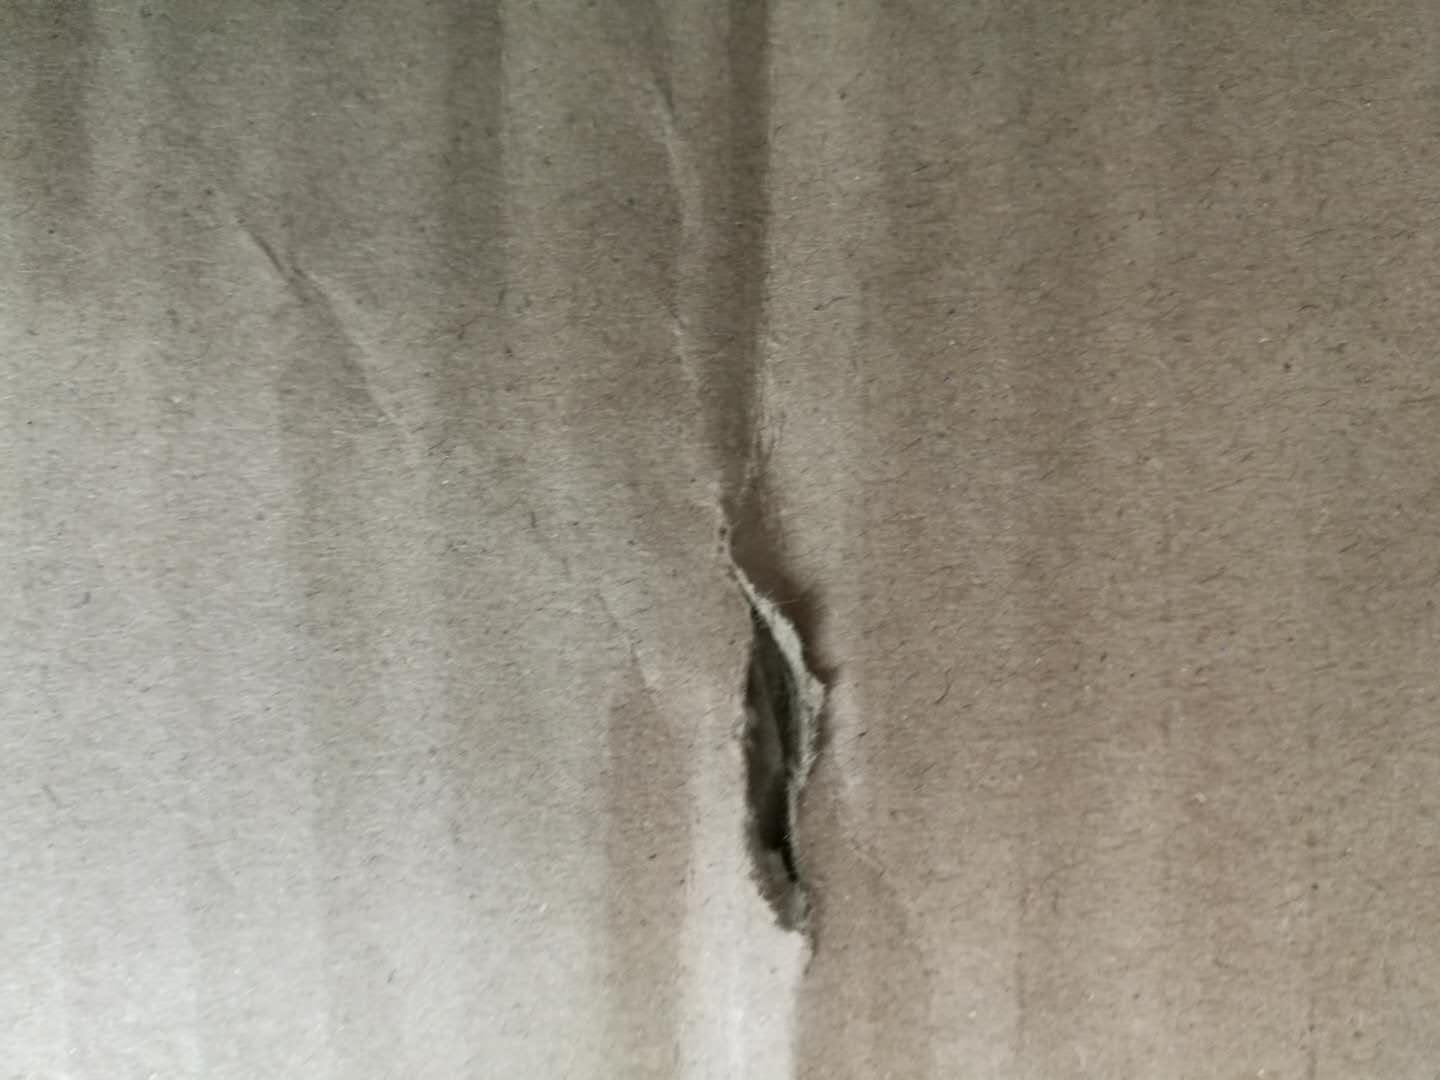defect: (598, 1, 924, 1080), (200, 158, 454, 493), (437, 1, 571, 543)
